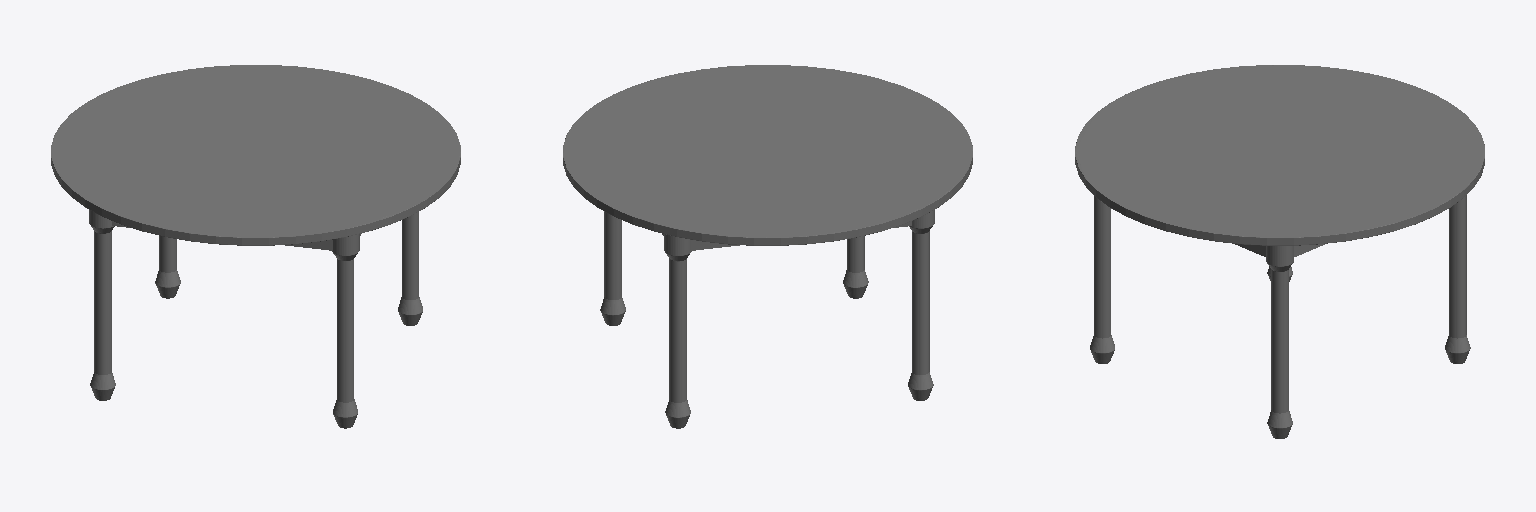
3 views of the same model, side by side, from view 1: azimuth 30°, elevation 25°; view 2: azimuth 150°, elevation 25°; view 3: azimuth 270°, elevation 25° (orthographic).
Visible parts, largest first — view 1: Table_Circle.005, Leg_Cylinder.005; view 2: Table_Circle.005, Leg_Cylinder.005; view 3: Table_Circle.005, Leg_Cylinder.005.
Part boxes in pixels (bbox=[...]): Table_Circle.005: bbox=[51, 65, 460, 245]; Leg_Cylinder.005: bbox=[89, 210, 422, 428]; Table_Circle.005: bbox=[563, 65, 972, 245]; Leg_Cylinder.005: bbox=[600, 210, 934, 428]; Table_Circle.005: bbox=[1075, 65, 1484, 245]; Leg_Cylinder.005: bbox=[1090, 195, 1470, 438].
Bounding box in the file's own units: 2.58 × 1.46 × 2.58.